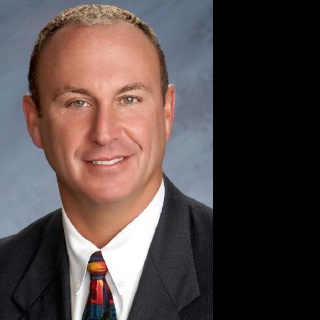without_mask: (22, 4, 175, 202)
